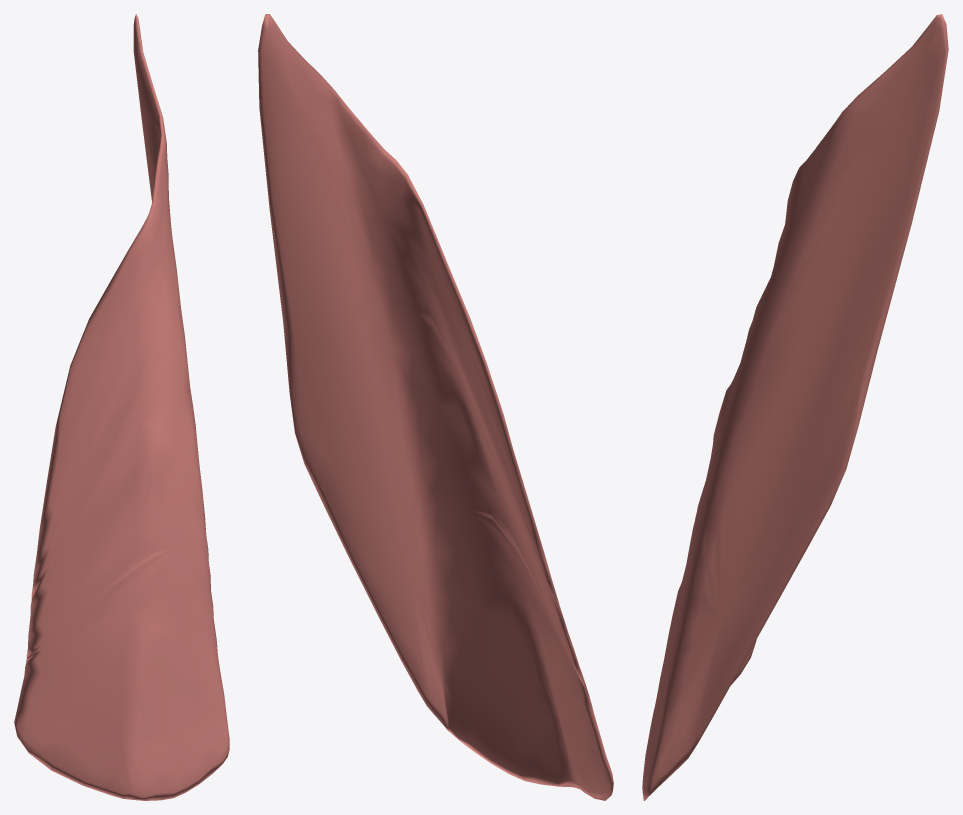
3 renders of one model, left to right at view 1: azimuth 30°, elevation 25°; view 2: azimuth 150°, elevation 25°; view 3: azimuth 270°, elevation 25°, orthographic. The views are drawn at different scales.
Parts seen in each view (by area): view 1: ZA_0401459dfd9fbef1; view 2: ZA_0401459dfd9fbef1; view 3: ZA_0401459dfd9fbef1.
Boxes of the visible parts, box(x1,y1,x2,y2) form: ZA_0401459dfd9fbef1: box(14, 14, 229, 800); ZA_0401459dfd9fbef1: box(258, 14, 613, 800); ZA_0401459dfd9fbef1: box(642, 14, 948, 800).
Size of the model in its own units: 0.0229 by 0.0689 by 0.023.
